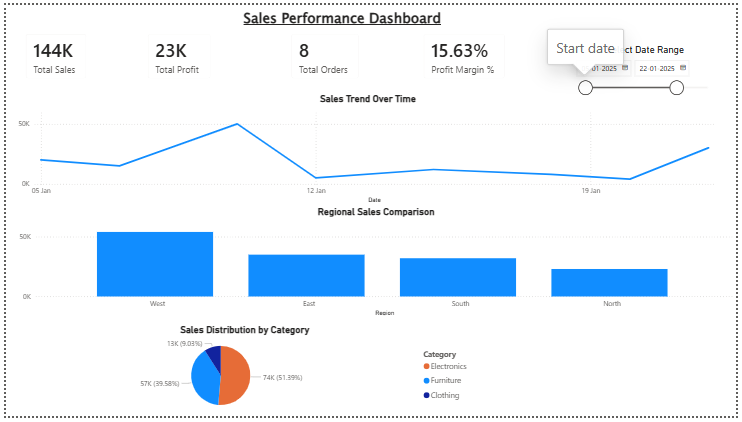

The page's visual inventory and layout, read from the dashboard file:
{"tool":"powerbi","page":{"name":"Page 1","canvas":[1280,720],"ordinal":0},"visuals":[{"type":"lineChart","title":"Sales Trend Over Time","fields":{"Category":["sales_data.Date"],"Y":["Sum(sales_data.Sales)"]},"box":[16,154,1238,198],"z":0},{"type":"cardVisual","fields":{"Data":["sales_data.Total Sales"]},"box":[18,34,140,112],"z":1000},{"type":"cardVisual","fields":{"Data":["sales_data.Total Profit"]},"box":[232,34,144,112],"z":2000},{"type":"cardVisual","fields":{"Data":["sales_data.Total Orders"]},"box":[484,34,152,112],"z":3000},{"type":"cardVisual","fields":{"Data":["sales_data.Profit Margin %"]},"box":[716,34,176,112],"z":4000},{"type":"clusteredColumnChart","title":"Regional Sales Comparison","fields":{"Category":["sales_data.Region"],"Y":["Sum(sales_data.Sales)"]},"box":[17.5,352.5,1262.5,197.5],"z":5000},{"type":"pieChart","title":"Sales Distribution by Category","fields":{"Category":["sales_data.Category"],"Y":["Sum(sales_data.Sales)"]},"box":[16,560,806,160],"z":6000},{"type":"slicer","title":"Select Date Range","fields":{"Values":["sales_data.Date"]},"box":[988,68,266,92],"z":6001},{"type":"textbox","box":[822,560,458,160],"z":6002},{"type":"textbox","box":[232,0,716,52],"z":6003}]}

Visuals, with their boxes in screenshot pixels (x1, y1, x2, y2), scaled from the page's 1280x720 canvas onto the 742x422 screenshot:
"Sales Trend Over Time" lineChart: <bbox>9, 90, 727, 206</bbox>
cardVisual - sales_data.Total Sales: <bbox>10, 20, 92, 86</bbox>
cardVisual - sales_data.Total Profit: <bbox>134, 20, 218, 86</bbox>
cardVisual - sales_data.Total Orders: <bbox>281, 20, 369, 86</bbox>
cardVisual - sales_data.Profit Margin %: <bbox>415, 20, 517, 86</bbox>
"Regional Sales Comparison" clusteredColumnChart: <bbox>10, 207, 741, 322</bbox>
"Sales Distribution by Category" pieChart: <bbox>9, 328, 477, 421</bbox>
"Select Date Range" slicer: <bbox>573, 40, 727, 94</bbox>
textbox: <bbox>477, 328, 741, 421</bbox>
textbox: <bbox>134, 0, 550, 30</bbox>
